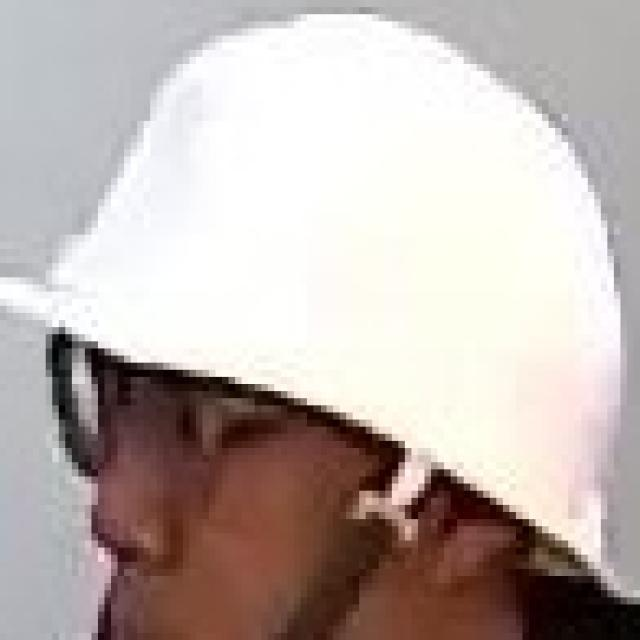helmet: (0, 15, 620, 554)
